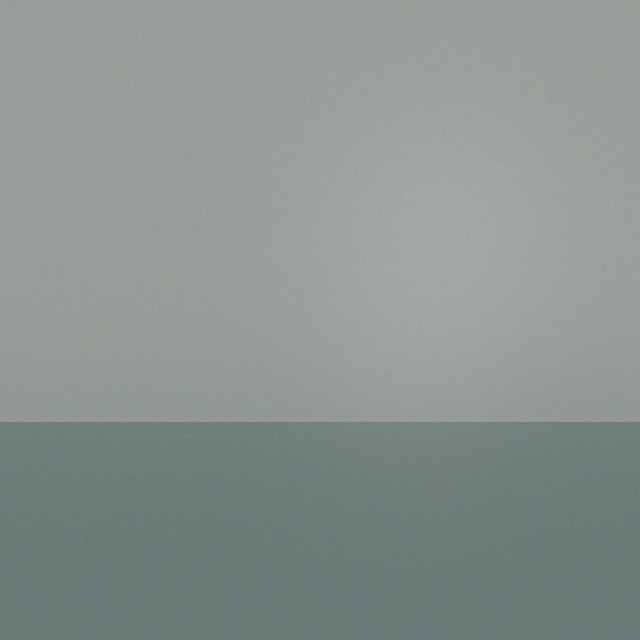smoke: (216, 202, 506, 492)
